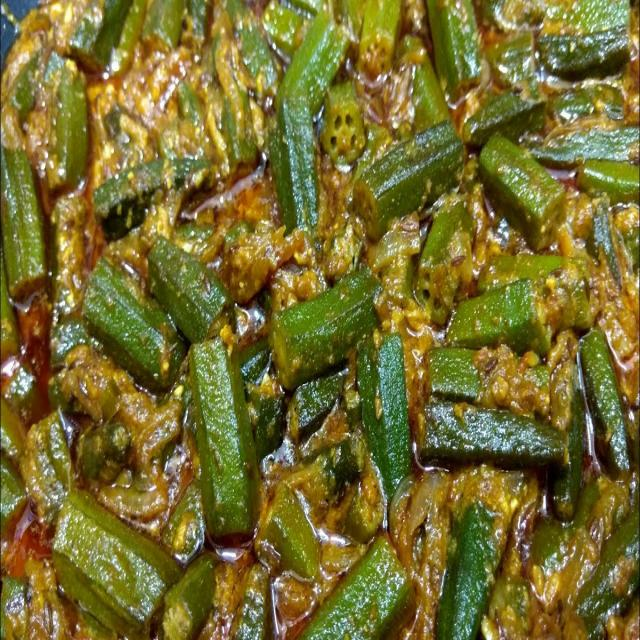BhindiMasala: (1, 1, 640, 638)
